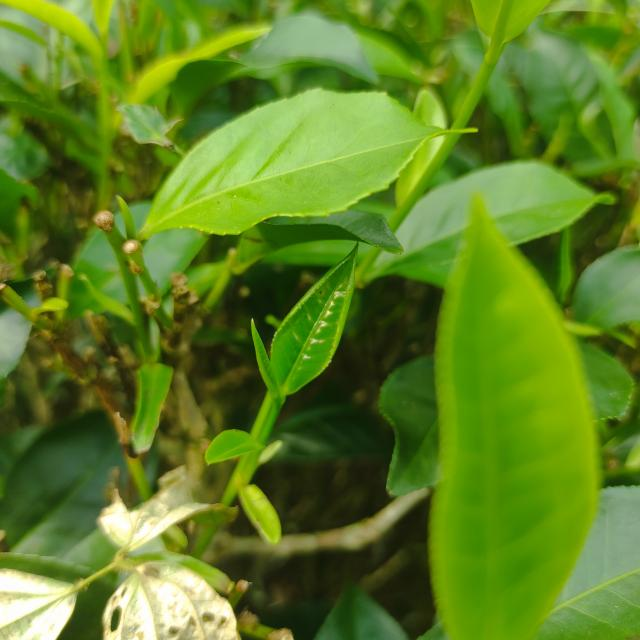unopened_leaf: (245, 312, 290, 410)
